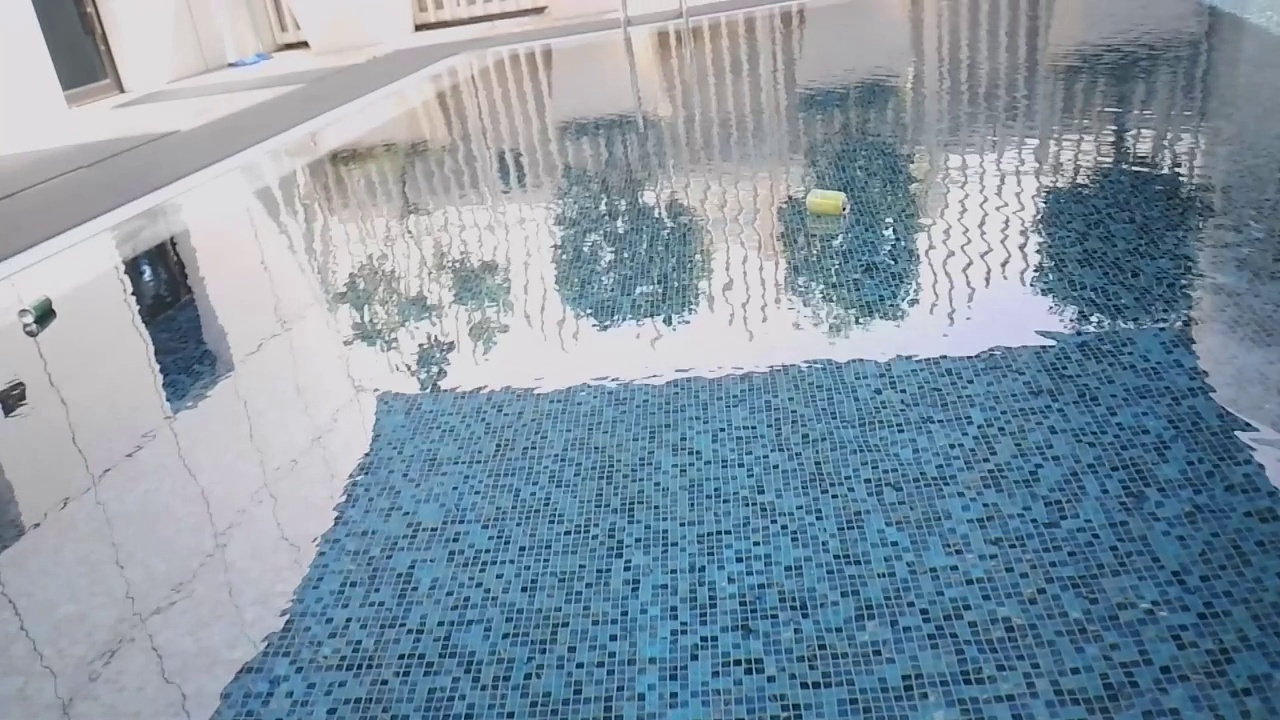debris: (803, 182, 852, 221)
